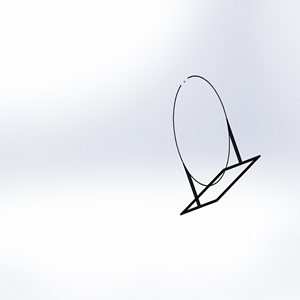circle: (170, 74, 262, 215)
